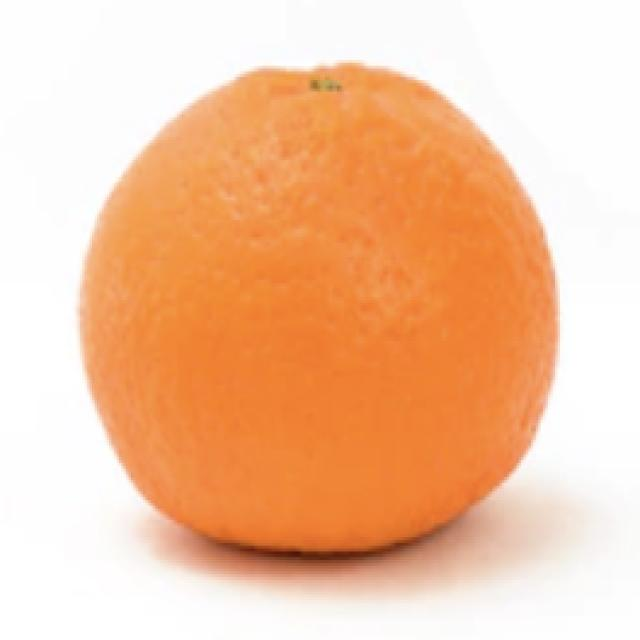orange: (66, 48, 580, 588)
